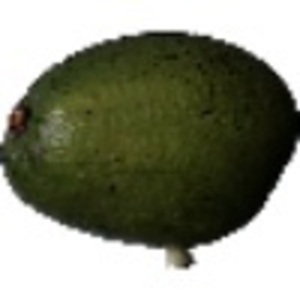abacate: (1, 28, 298, 250)
